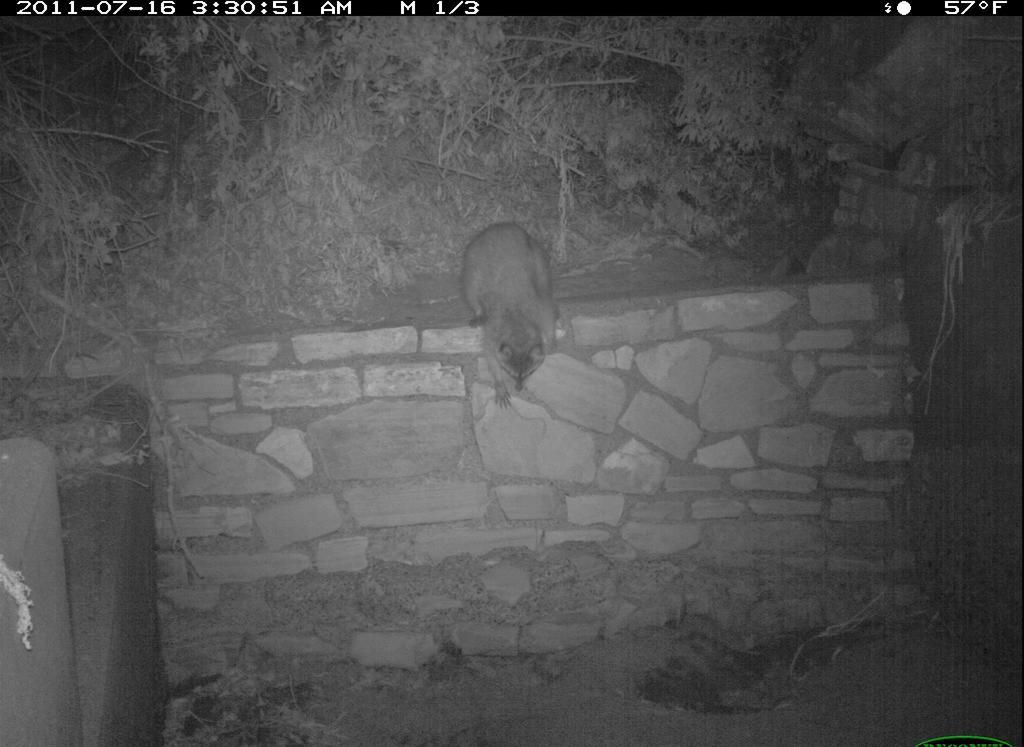raccoon: (454, 207, 571, 418)
